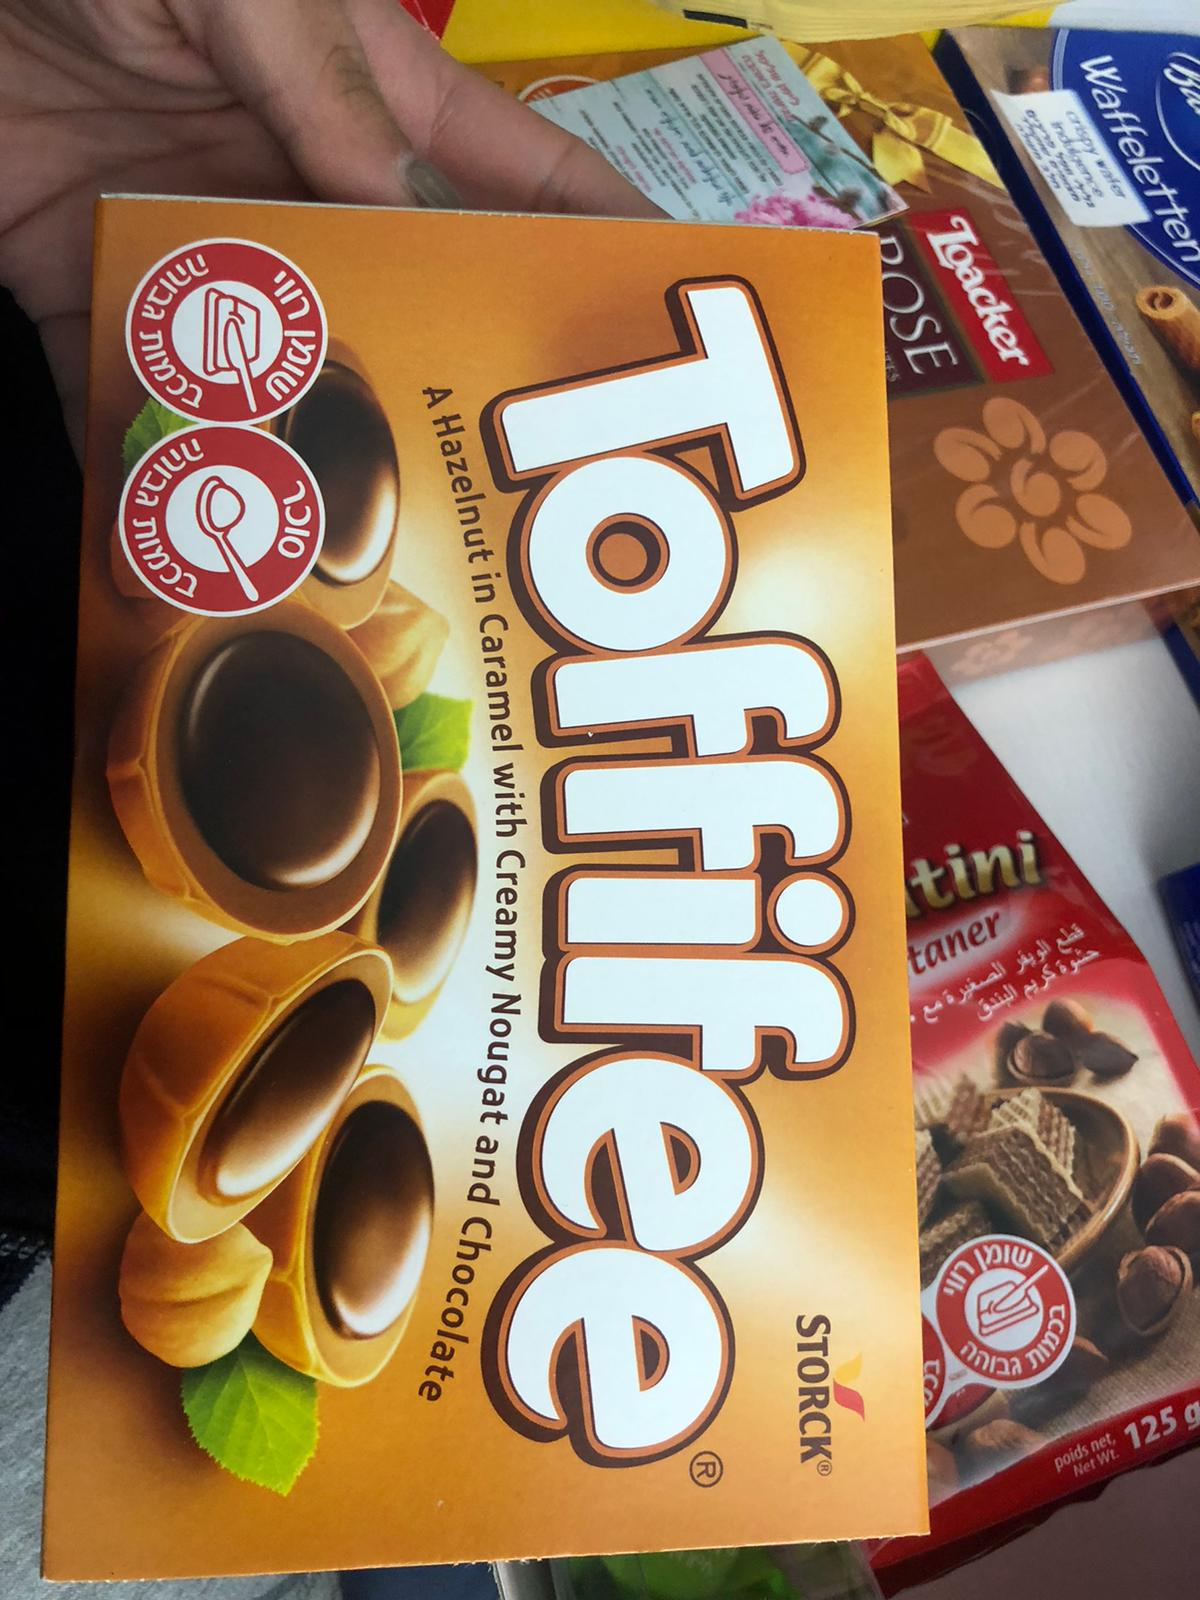fat: (121, 236, 332, 431)
sugar: (116, 418, 326, 616)
